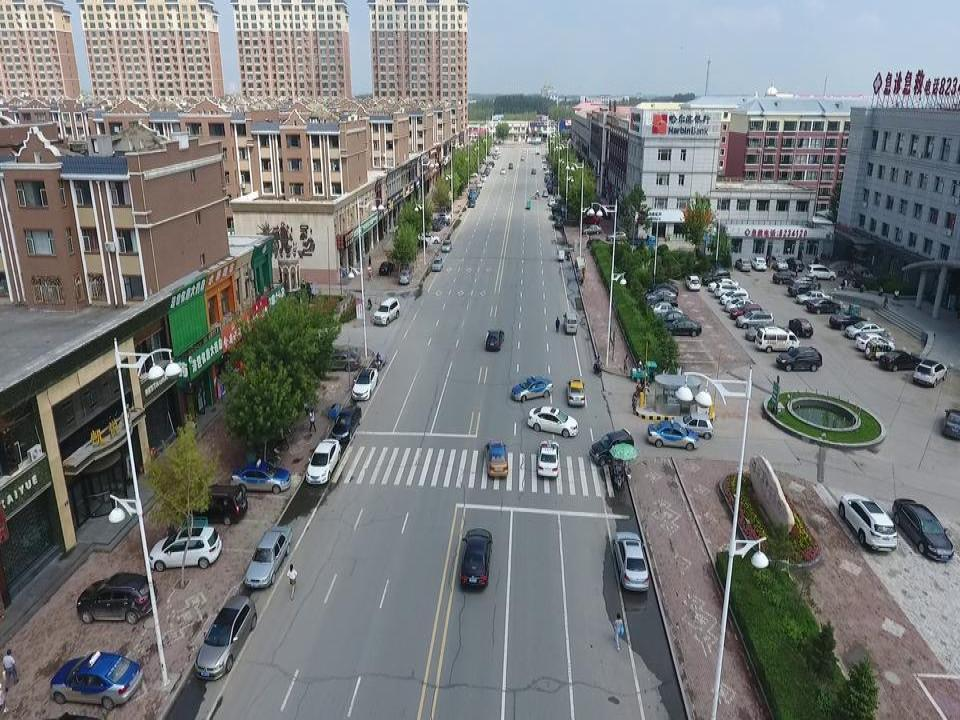car: (49, 651, 143, 708), (196, 596, 256, 681), (74, 573, 158, 623), (892, 499, 954, 562), (839, 493, 897, 552), (149, 527, 220, 572), (181, 482, 246, 526), (613, 532, 650, 592), (232, 460, 289, 493), (460, 529, 492, 587), (590, 428, 634, 467), (306, 437, 339, 488), (527, 408, 578, 439), (647, 421, 698, 450), (670, 412, 713, 441), (510, 376, 554, 403), (332, 405, 360, 447), (776, 347, 823, 372), (483, 441, 508, 479), (912, 360, 947, 387), (877, 351, 922, 372), (351, 368, 376, 403), (536, 441, 560, 476), (319, 351, 359, 372), (845, 320, 885, 339), (373, 299, 399, 328), (662, 319, 701, 336), (745, 327, 791, 341), (829, 312, 866, 329), (652, 309, 685, 327), (856, 334, 893, 350), (736, 312, 774, 327), (941, 408, 960, 437), (866, 340, 895, 359), (797, 288, 831, 304), (730, 304, 766, 319), (807, 299, 843, 313), (568, 379, 585, 408), (701, 269, 732, 284), (787, 281, 819, 295), (647, 303, 679, 317), (485, 329, 504, 351), (713, 284, 747, 296), (771, 270, 802, 283), (804, 264, 835, 277), (721, 291, 752, 304), (707, 278, 740, 290), (646, 294, 676, 307), (648, 282, 678, 295), (643, 291, 678, 301), (726, 299, 759, 309), (417, 232, 440, 244), (378, 261, 394, 276), (684, 273, 697, 291), (735, 257, 750, 272), (771, 255, 788, 268), (579, 215, 600, 225), (582, 225, 602, 235), (606, 230, 621, 243), (751, 257, 766, 270), (431, 258, 442, 274), (399, 271, 410, 285), (789, 256, 801, 267), (442, 240, 452, 253), (434, 212, 450, 220), (433, 220, 444, 231), (435, 217, 450, 224), (555, 217, 562, 228), (552, 211, 560, 220), (548, 197, 555, 207), (551, 203, 558, 212), (469, 191, 476, 200), (468, 199, 474, 208), (546, 180, 552, 187), (475, 181, 482, 187), (547, 184, 552, 192), (545, 174, 550, 182), (500, 169, 506, 175), (484, 167, 490, 173), (545, 168, 550, 175), (480, 175, 486, 180), (543, 189, 547, 196), (531, 168, 535, 175), (508, 163, 512, 169), (489, 161, 493, 167), (520, 156, 524, 161)
van: (753, 327, 801, 352), (564, 313, 578, 335), (558, 248, 563, 261)
